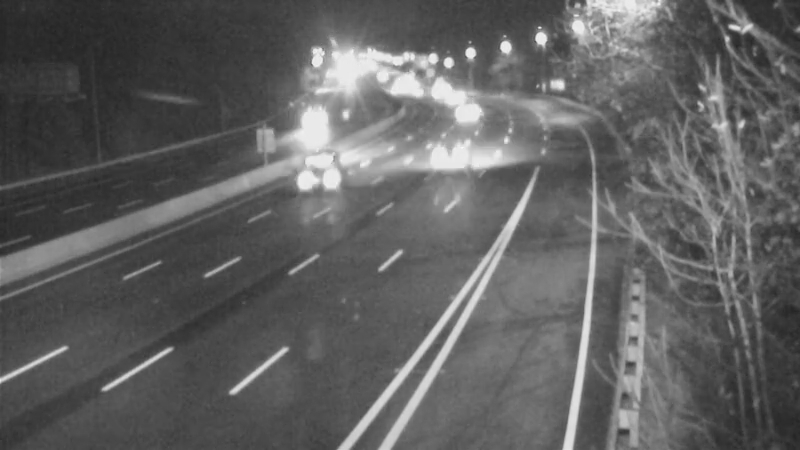vehicle: (406, 115, 486, 195), (281, 117, 361, 197), (289, 132, 369, 212), (416, 66, 466, 116), (430, 72, 480, 122), (445, 84, 495, 134), (289, 96, 339, 146)
